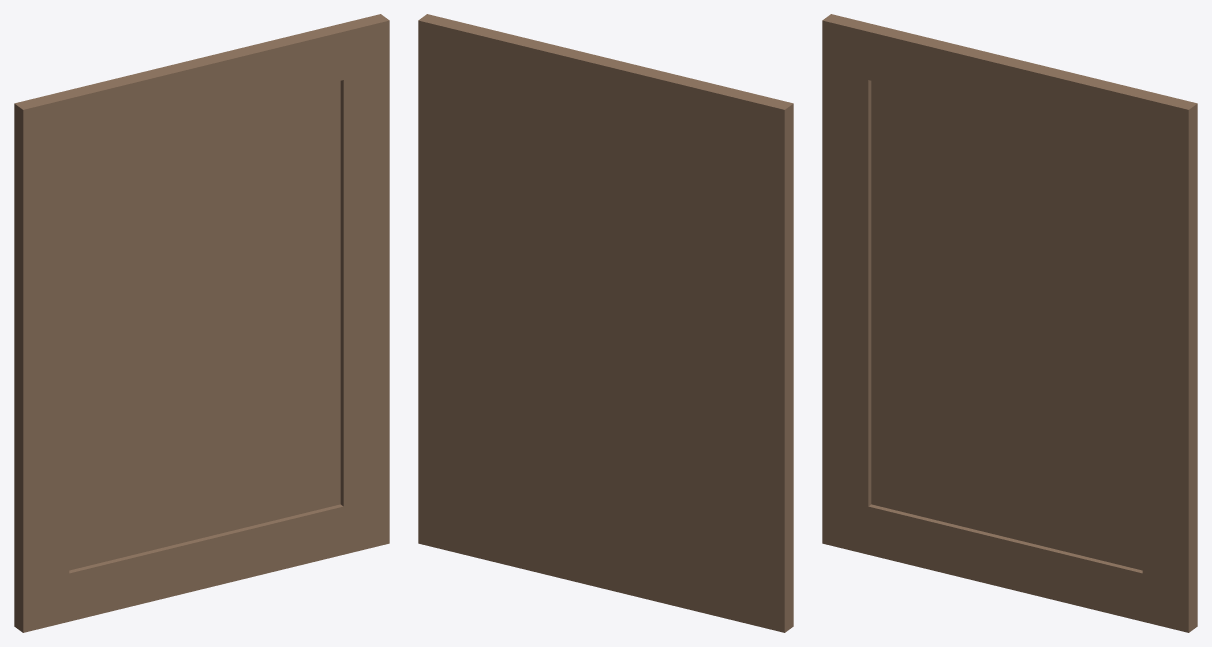
Rendered from drawer_front_10.obj.
The picture shows the model from 3 angles, left to right: view 1: azimuth 30°, elevation 25°; view 2: azimuth 150°, elevation 25°; view 3: azimuth 330°, elevation 25°; orthographic projection.
Visible parts, largest first — view 1: drawer_front_10; view 2: drawer_front_10; view 3: drawer_front_10.
Part boxes in pixels (box(x1,y1,x2,y2)): drawer_front_10: box(14, 14, 389, 632); drawer_front_10: box(418, 14, 793, 632); drawer_front_10: box(822, 14, 1197, 632).
Size of the model in its own units: 454 by 619 by 19.05.
